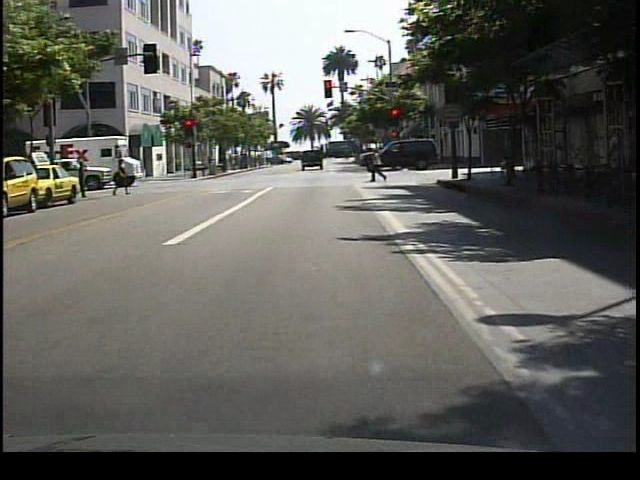person: (497, 138, 522, 187), (72, 152, 92, 201), (369, 147, 390, 182), (113, 157, 131, 197)
